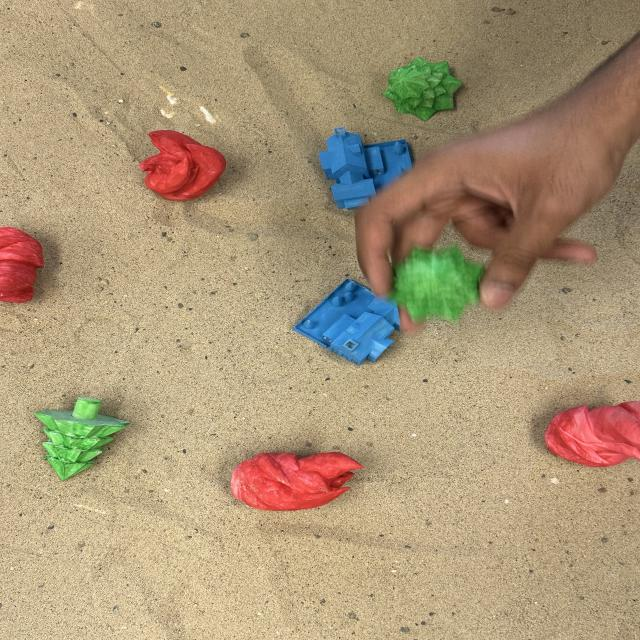fire: (228, 449, 365, 512), (138, 128, 228, 202), (546, 401, 640, 468), (0, 224, 47, 304)
house: (292, 276, 401, 366), (316, 125, 414, 211)
tree: (32, 396, 132, 482), (390, 242, 491, 319), (381, 55, 463, 122)
